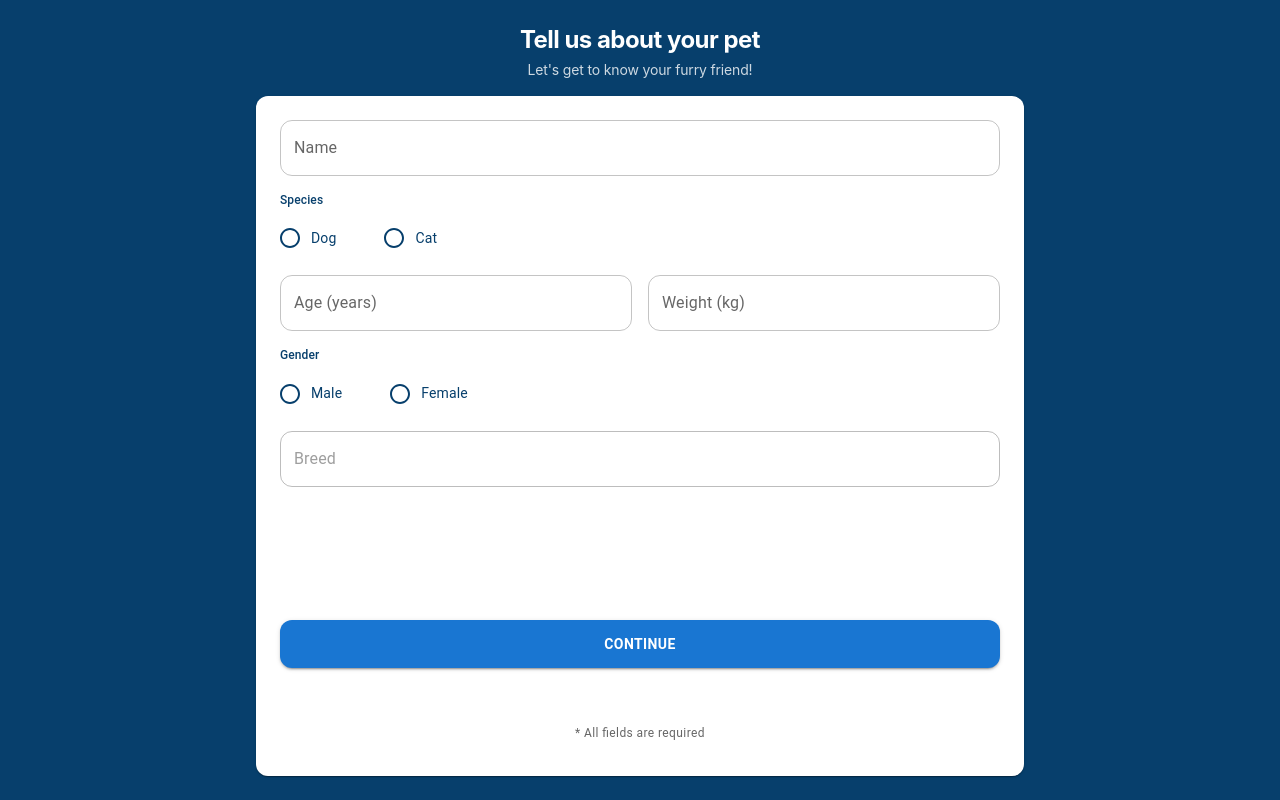
Test case: AddPetPage › should show breed suggestions when typing
The width and height of the screenshot is (1280, 800).
// Select species first
Click the radio button labelled "Dog" at (290, 238), box [278,226,336,250]
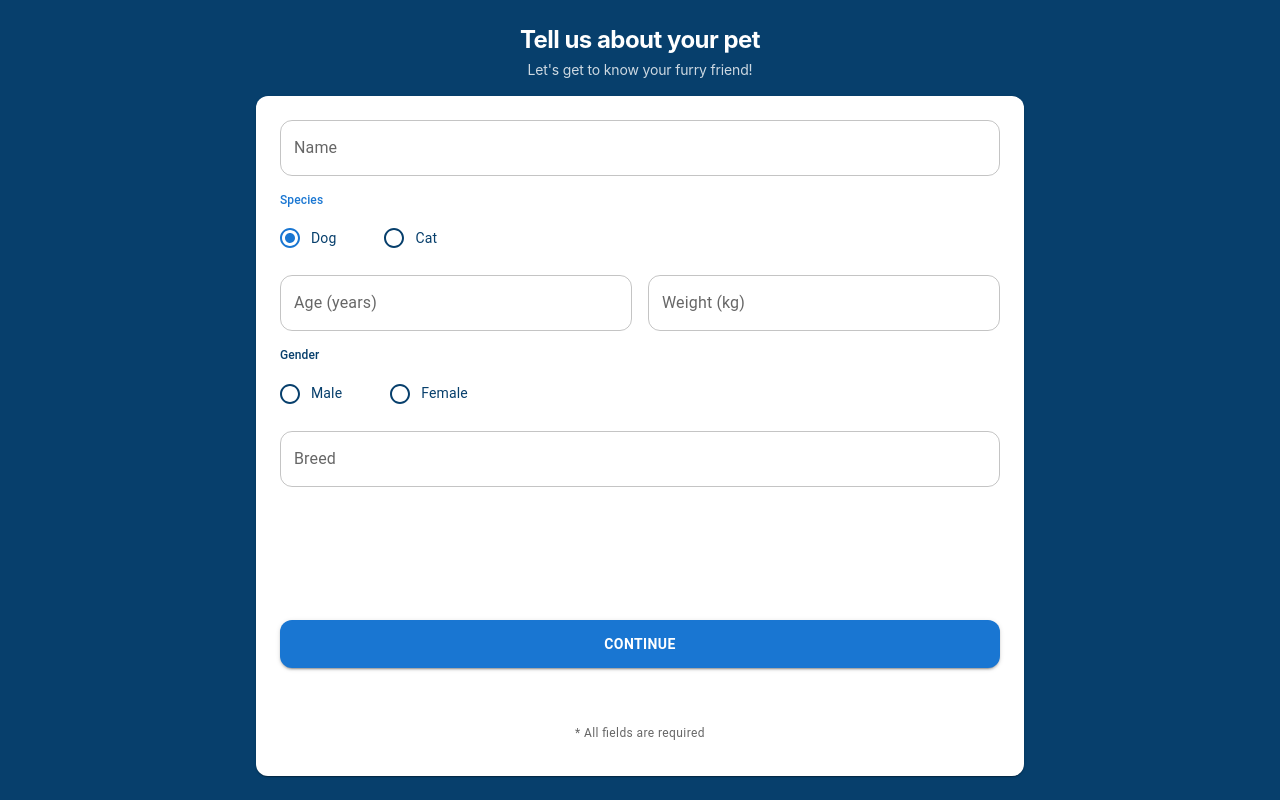
// Type in breed field
Type "Gold" into the field labelled "Breed" at (640, 458), box [280,430,1000,486]
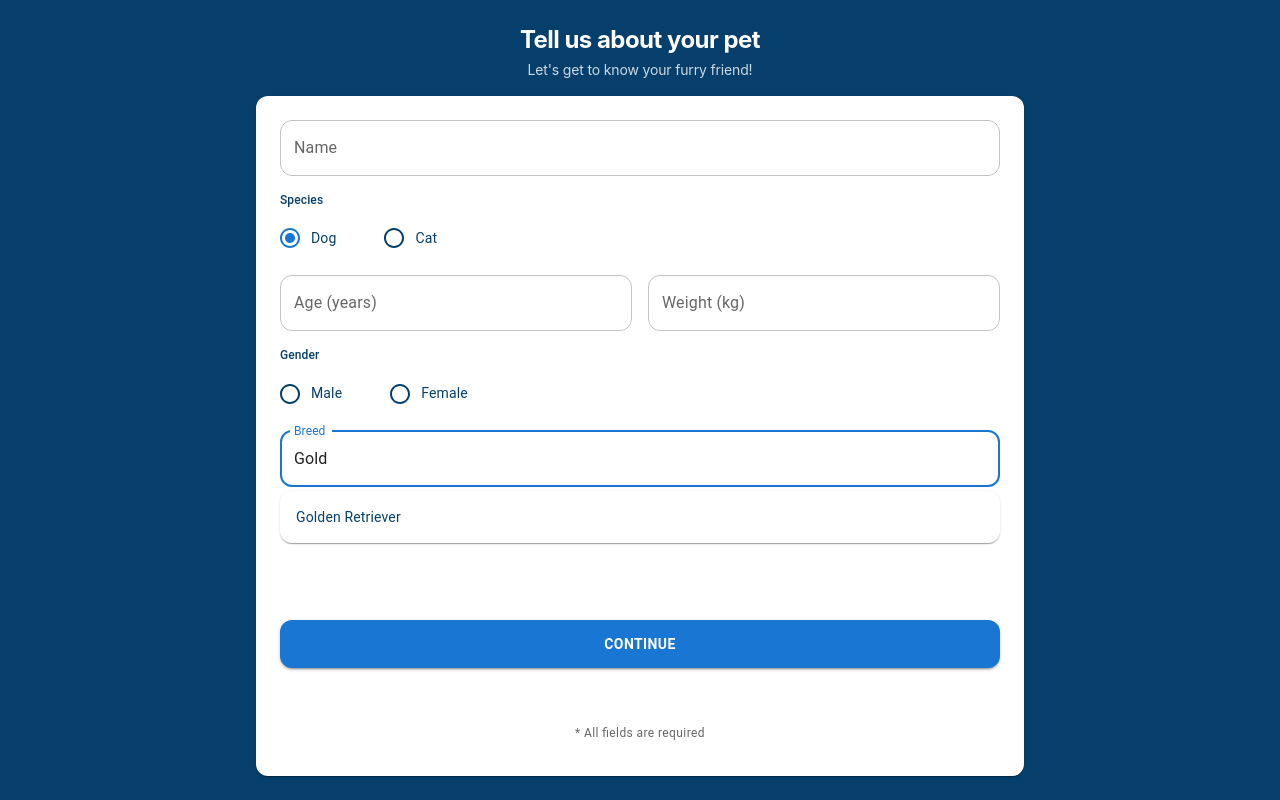
expect the text "Golden Retriever" is shown: met, box [296,508,401,524]
